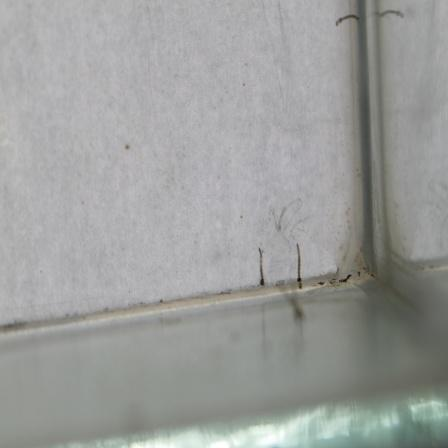Jentik-Nyamuk: (293, 240, 306, 291), (332, 10, 365, 29), (254, 243, 267, 288), (337, 271, 355, 286)
